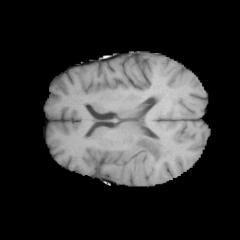glioma: (107, 135, 173, 185)
